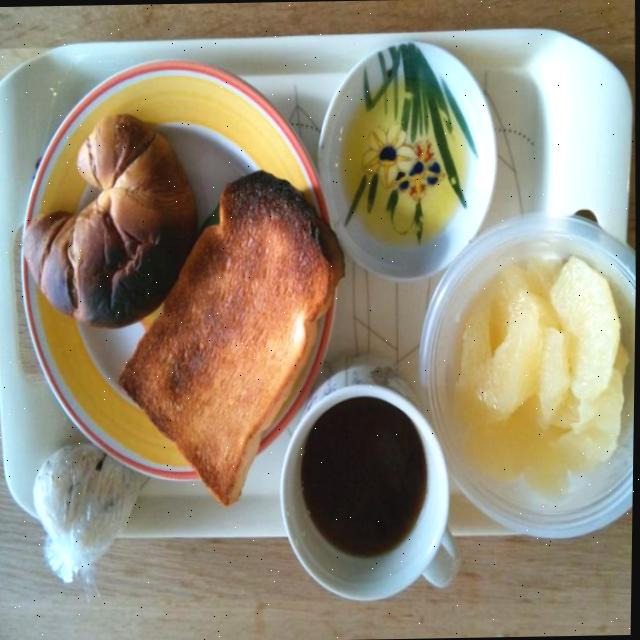面包点心: (107, 159, 365, 503), (3, 99, 211, 332)
